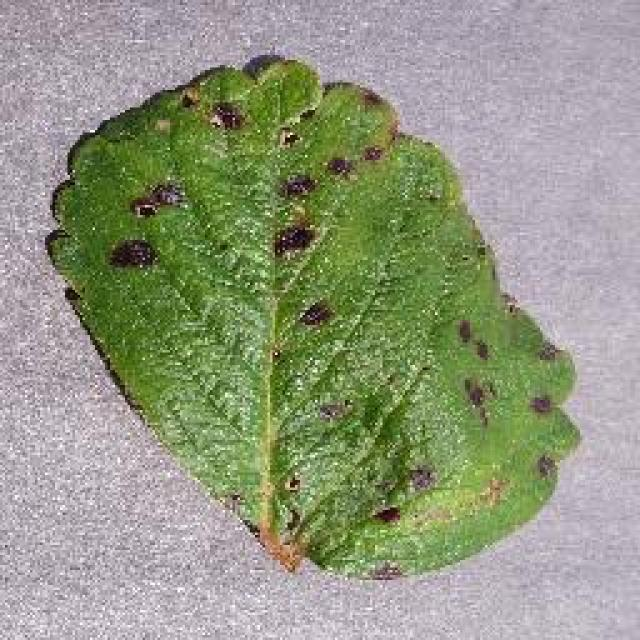Strawberry___Leaf_scorch: (112, 66, 488, 525)
